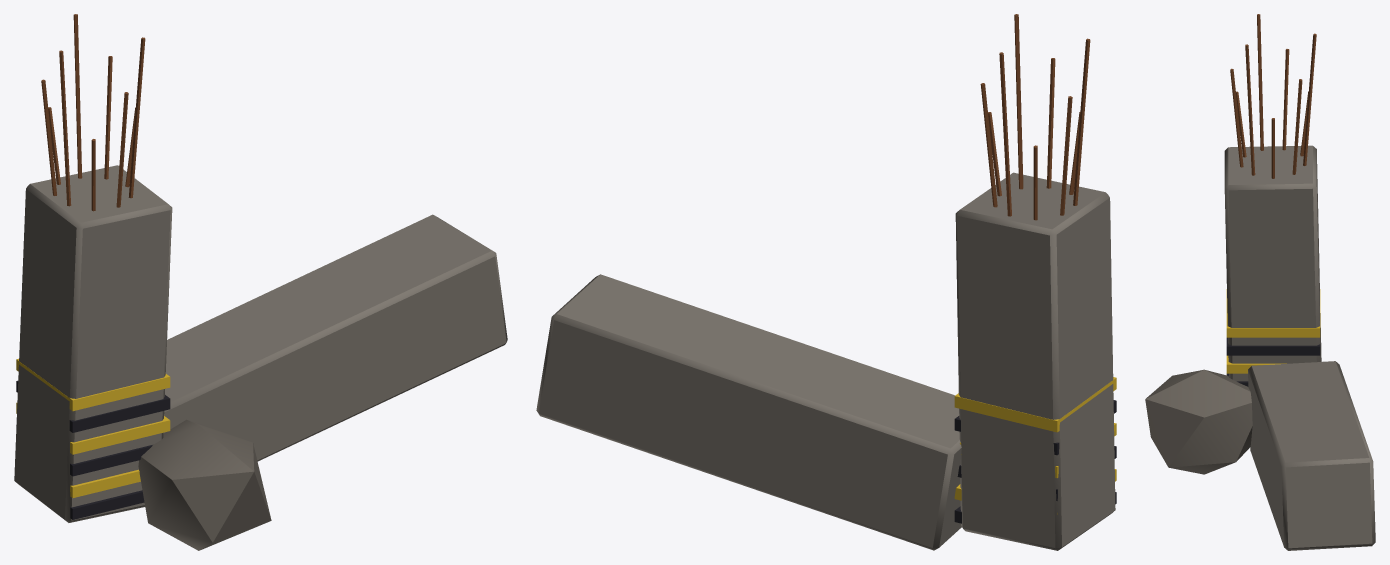
Rendered from broken_pillar.glb.
3 renders of one model, left to right at view 1: azimuth 30°, elevation 25°; view 2: azimuth 150°, elevation 25°; view 3: azimuth 270°, elevation 25°, orthographic. The views are drawn at different scales.
Visible parts, largest first — view 1: broken_pillar; view 2: broken_pillar; view 3: broken_pillar.
Boxes of the visible parts, left/top/right/bottom form: broken_pillar: left=14, top=14, right=507, bottom=550; broken_pillar: left=536, top=14, right=1116, bottom=550; broken_pillar: left=1145, top=14, right=1375, bottom=550.
Bounding box in the file's own units: 5.95 × 6 × 3.
